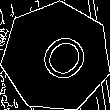O_SW: (23, 24, 89, 90)
